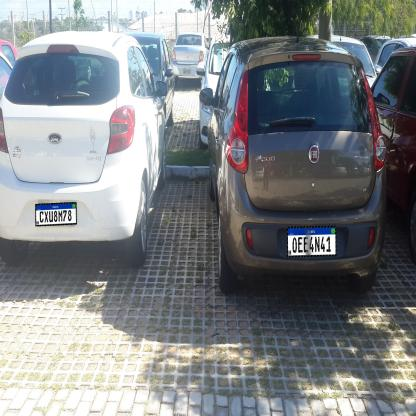PlacaM: (287, 226, 336, 257), (35, 202, 77, 226)
